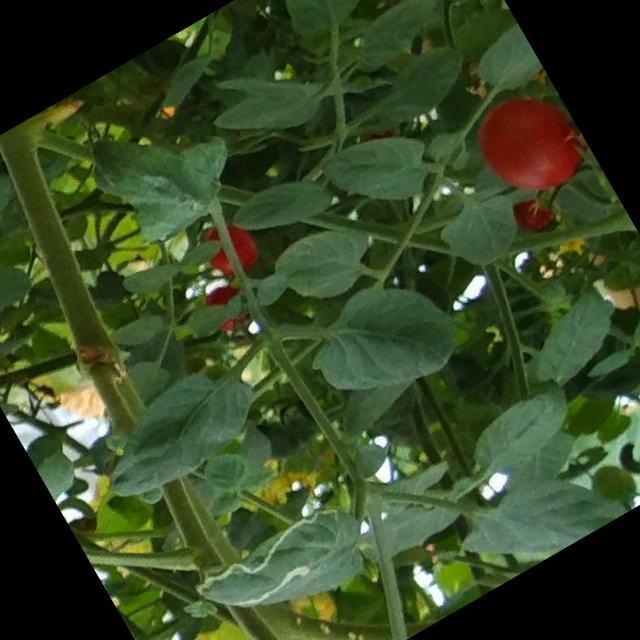Tomato target spot leaf: (190, 490, 385, 640)
